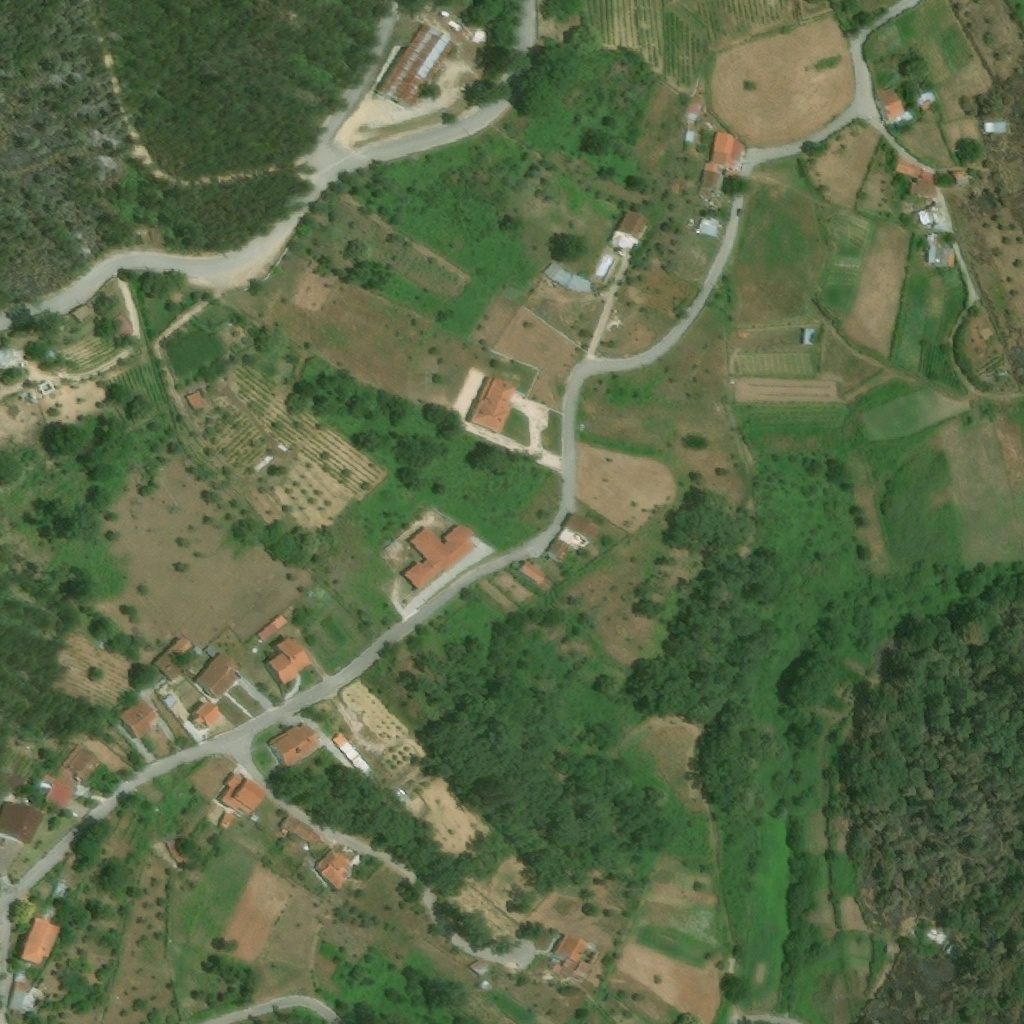0 no-damage: (373, 24, 455, 109), (403, 523, 473, 588), (698, 128, 744, 197), (0, 776, 43, 845), (468, 374, 518, 433), (264, 637, 312, 685), (15, 916, 60, 967), (268, 722, 319, 766), (195, 652, 239, 701), (220, 773, 266, 817), (892, 157, 938, 200), (151, 634, 193, 679), (313, 852, 360, 892), (116, 699, 160, 740), (35, 768, 78, 808), (543, 262, 592, 295), (332, 732, 370, 773), (8, 972, 45, 1013), (876, 87, 913, 125), (611, 210, 650, 246), (63, 744, 102, 780), (282, 815, 320, 847), (563, 511, 599, 541), (551, 932, 585, 963), (927, 232, 956, 268), (257, 613, 288, 641), (191, 701, 223, 728), (914, 204, 946, 227), (519, 559, 547, 583), (164, 837, 185, 863), (547, 539, 570, 561), (594, 253, 613, 278), (698, 216, 719, 237), (185, 389, 205, 410), (917, 85, 936, 107), (468, 960, 488, 977), (983, 120, 1007, 134), (927, 929, 946, 946), (574, 959, 590, 976), (952, 170, 969, 184), (801, 328, 815, 345), (218, 813, 233, 828), (683, 130, 695, 144), (475, 978, 489, 990), (886, 946, 893, 954)
